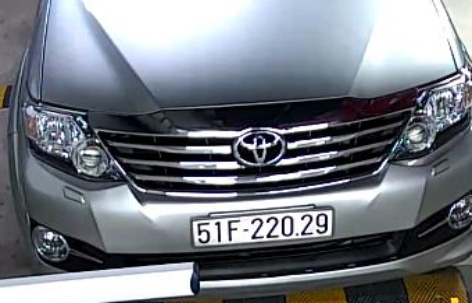plate: (190, 207, 337, 247)
